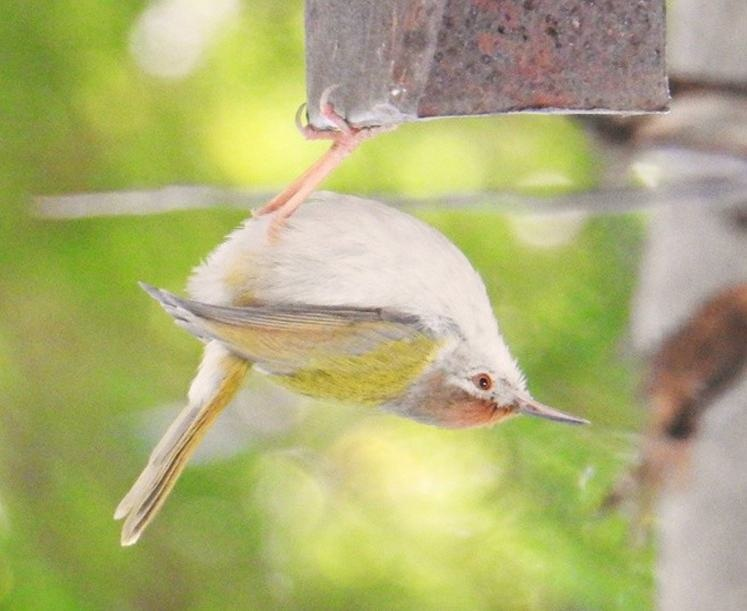tailorbird: (141, 81, 593, 535)
